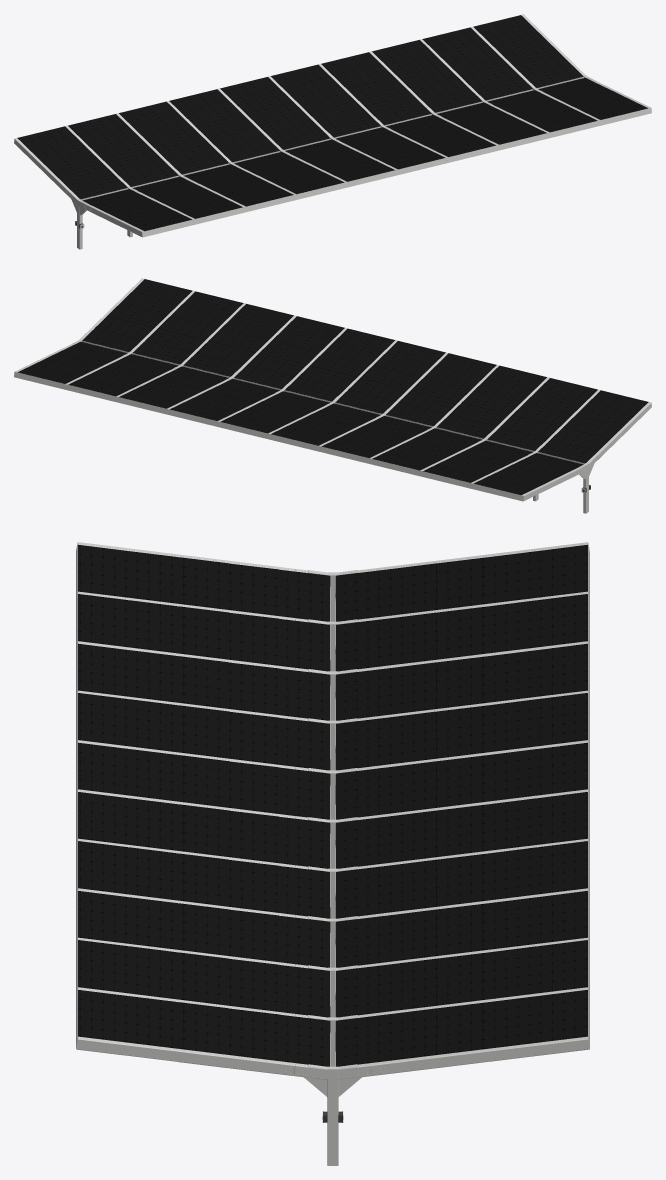
File: Pac_20.glb
The picture shows the model from 3 angles, top to bottom: view 1: azimuth 30°, elevation 25°; view 2: azimuth 150°, elevation 25°; view 3: azimuth 270°, elevation 25°; orthographic projection. The views are drawn at different scales.
Parts seen in each view (by area): view 1: Left.034, Left.022, Left.275, Left.260, Left.245, Left.010, Left.001, Left.236, Left.030, Left.240, Left.018, Left.255 (+2 smaller); view 2: Left.034, Left.022, Left.260, Left.275, Left.010, Left.245, Left.236, Left.001, Left.030, Left.018, Left.240, Left.255 (+2 smaller); view 3: Left.275, Left.034, Left.022, Left.260, Left.245, Left.010, Left.240, Left.030, Left.255, Left.018, Left.270, Left.005 (+3 smaller).
Part boxes in pixels (x1,y1,x2,y2): Left.034: [17, 114, 242, 231]; Left.022: [119, 89, 344, 206]; Left.275: [271, 52, 495, 169]; Left.260: [372, 27, 597, 144]; Left.245: [473, 15, 647, 119]; Left.010: [220, 77, 394, 181]; Left.001: [14, 76, 398, 237]; Left.236: [271, 14, 651, 175]; Left.030: [14, 125, 194, 236]; Left.240: [471, 14, 650, 120]; Left.018: [116, 101, 295, 207]; Left.255: [369, 39, 549, 145]; Left.034: [423, 378, 648, 495]; Left.022: [321, 353, 546, 470]; Left.260: [68, 291, 293, 408]; Left.275: [170, 316, 394, 433]; Left.010: [271, 341, 445, 445]; Left.245: [18, 279, 191, 383]; Left.236: [14, 278, 394, 439]; Left.001: [267, 340, 651, 501]; Left.030: [471, 389, 651, 500]; Left.018: [370, 365, 549, 474]; Left.240: [15, 278, 194, 386]; Left.255: [116, 303, 296, 414]; Left.275: [78, 792, 587, 918]; Left.034: [78, 544, 587, 671]; Left.022: [78, 643, 587, 770]; Left.260: [78, 891, 587, 1017]; Left.245: [78, 990, 587, 1066]; Left.010: [78, 742, 587, 819]; Left.240: [76, 987, 589, 1079]; Left.030: [78, 542, 587, 622]; Left.255: [78, 888, 587, 968]; Left.018: [78, 641, 587, 720]; Left.270: [78, 789, 587, 869]; Left.005: [78, 740, 587, 819].
Size of the model in its own units: 26.52 by 3.15 by 11.57.
6 materials, 5 textured.
